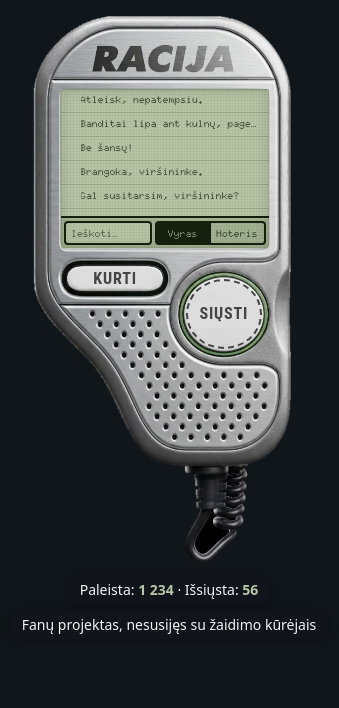
Test case: Radio › KURTI mode (speech) › SIŲSTI › downloaded counts as a share and explains
Click the button with class "skey" showing "KURTI": (115, 279) [62,261,168,296]
Wait 50 ms
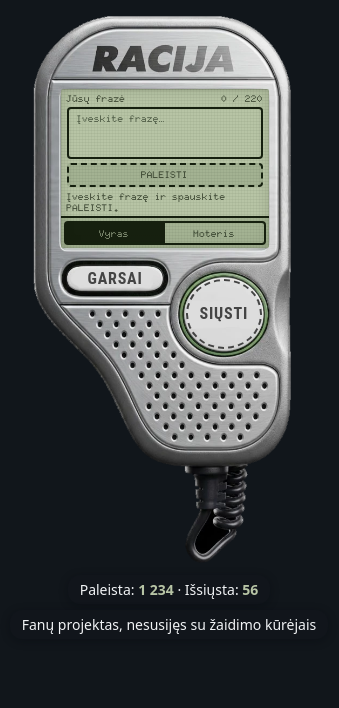
In the text box labelled "Jūsų frazė": (165, 132) [66,106,263,158], type "Labas"
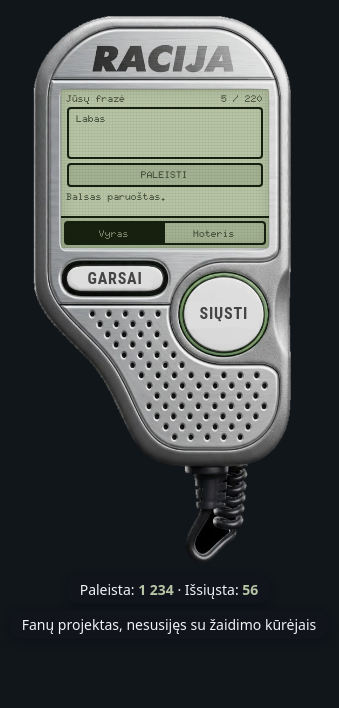
Click the button with class "skey" showing "SIŲSTI": (224, 315) [180,273,268,356]
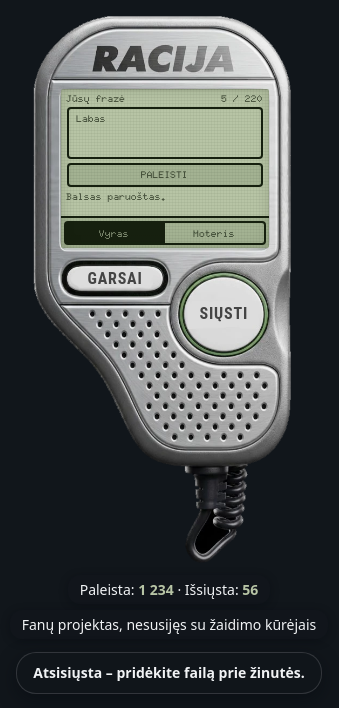
Expected: the text with class "toast" reads "Atsisiųsta – pridėkite failą prie žinutės.", [33,663,305,682]
